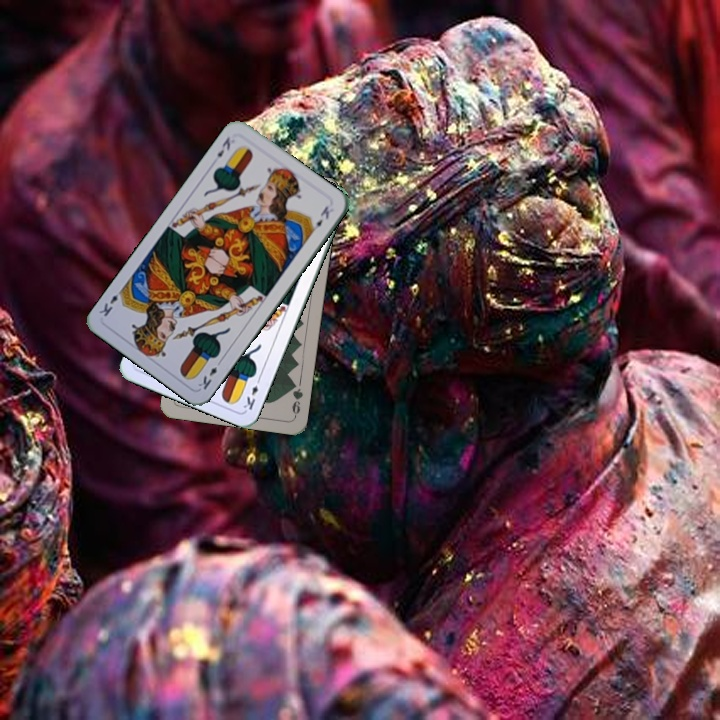EK: (194, 355, 224, 392), (239, 373, 263, 413), (213, 133, 233, 160)
G9: (287, 378, 305, 419)
